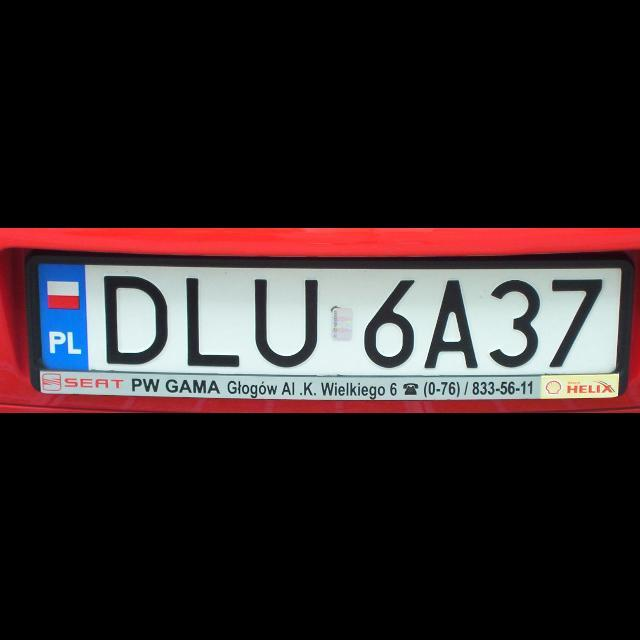license-plates: (30, 256, 630, 400)
